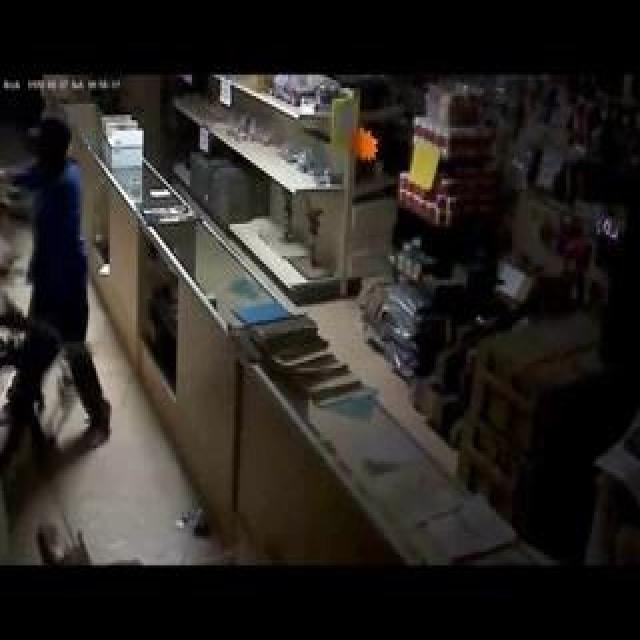thief: (20, 100, 92, 251)
